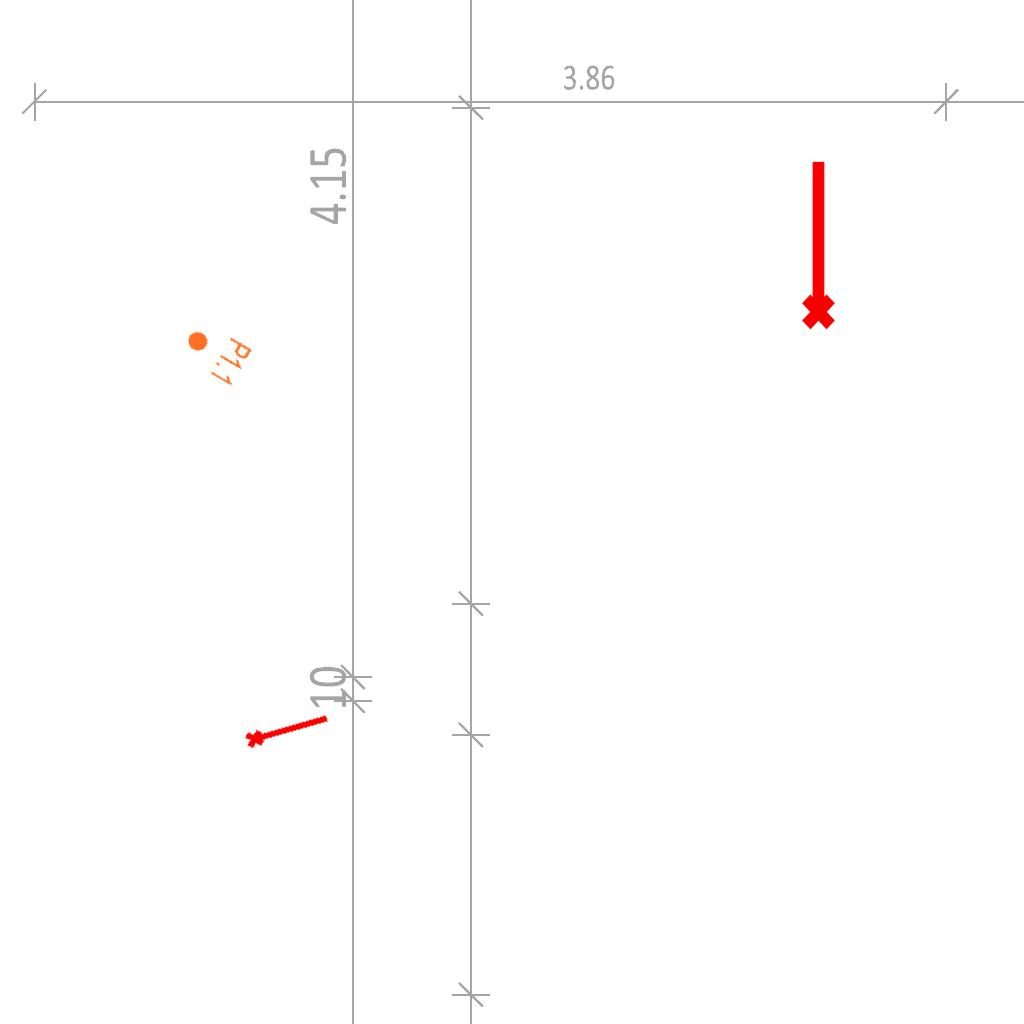ASR_Ansaugoeffnung: (793, 156, 839, 332), (241, 705, 333, 752)
Downlight_LED_Einbauleuchten_Flur: (175, 317, 255, 389)
